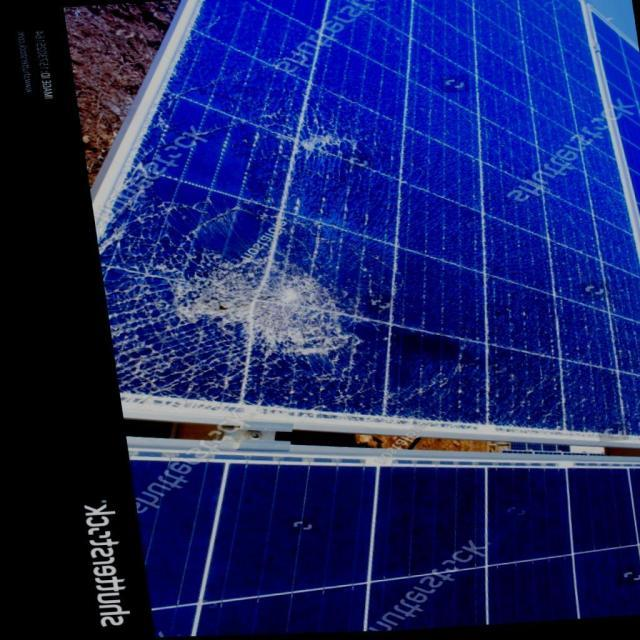cracked: (63, 2, 634, 444)
